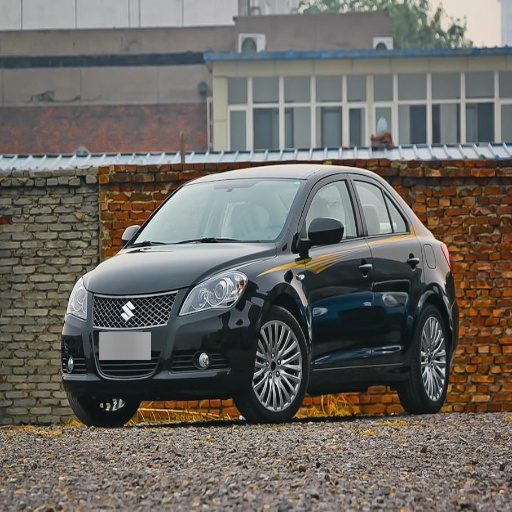front_bumper: (62, 285, 258, 398)
front_glass: (128, 182, 306, 247)
front_left_door: (295, 172, 376, 363)
